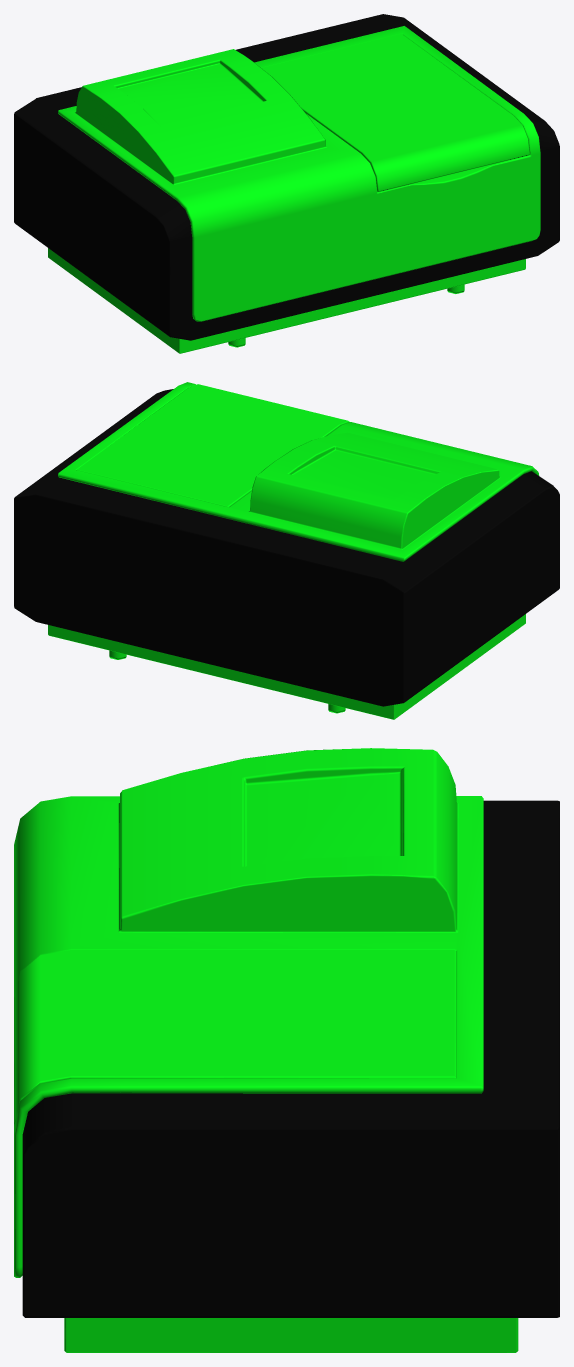
The model's file is Spectrophotometer01.FBX.
3 renders of one model, top to bottom at view 1: azimuth 30°, elevation 25°; view 2: azimuth 150°, elevation 25°; view 3: azimuth 270°, elevation 25°, orthographic. The views are drawn at different scales.
Parts seen in each view (by area): view 1: Spectrophotometer01, Spectrophotometer01_Lid; view 2: Spectrophotometer01, Spectrophotometer01_Lid; view 3: Spectrophotometer01, Spectrophotometer01_Lid.
Part boxes in pixels (x1,y1,x2,y2): Spectrophotometer01: (14,14,559,353); Spectrophotometer01_Lid: (261,33,530,191); Spectrophotometer01: (14,382,559,719); Spectrophotometer01_Lid: (76,384,349,507); Spectrophotometer01: (14,748,559,1352); Spectrophotometer01_Lid: (14,950,456,1122).
Bounding box in the file's own units: 45 × 21.75 × 31.65.
